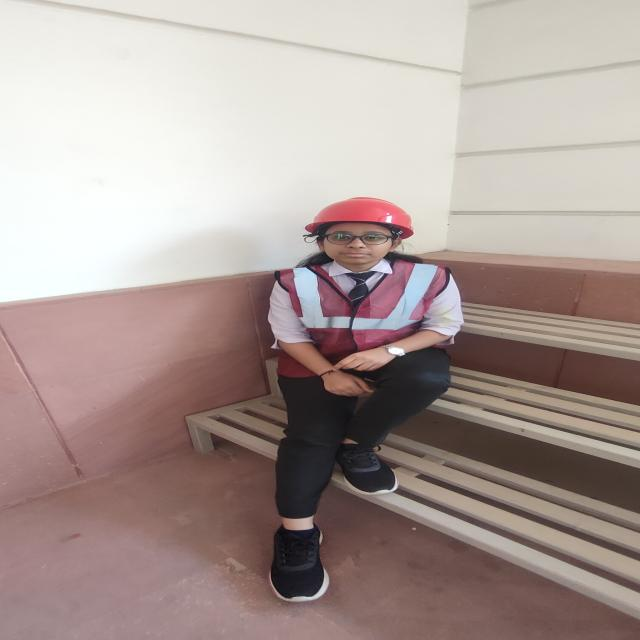safe: (274, 196, 462, 601)
